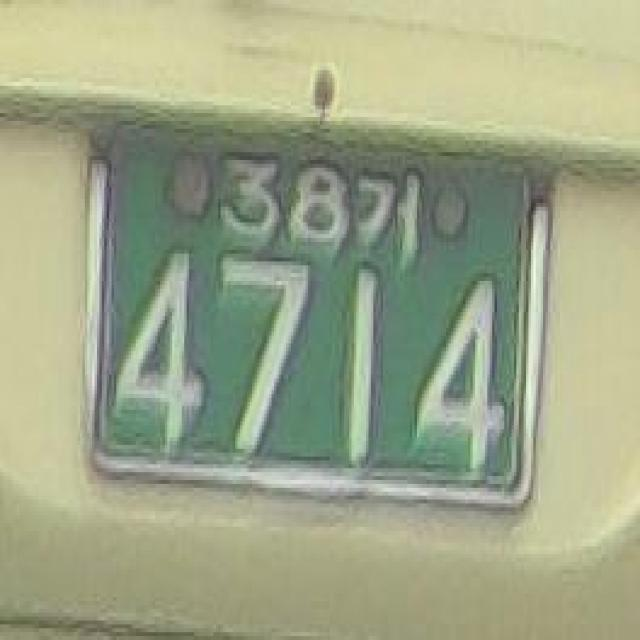illegal_plate: (74, 80, 555, 540)
